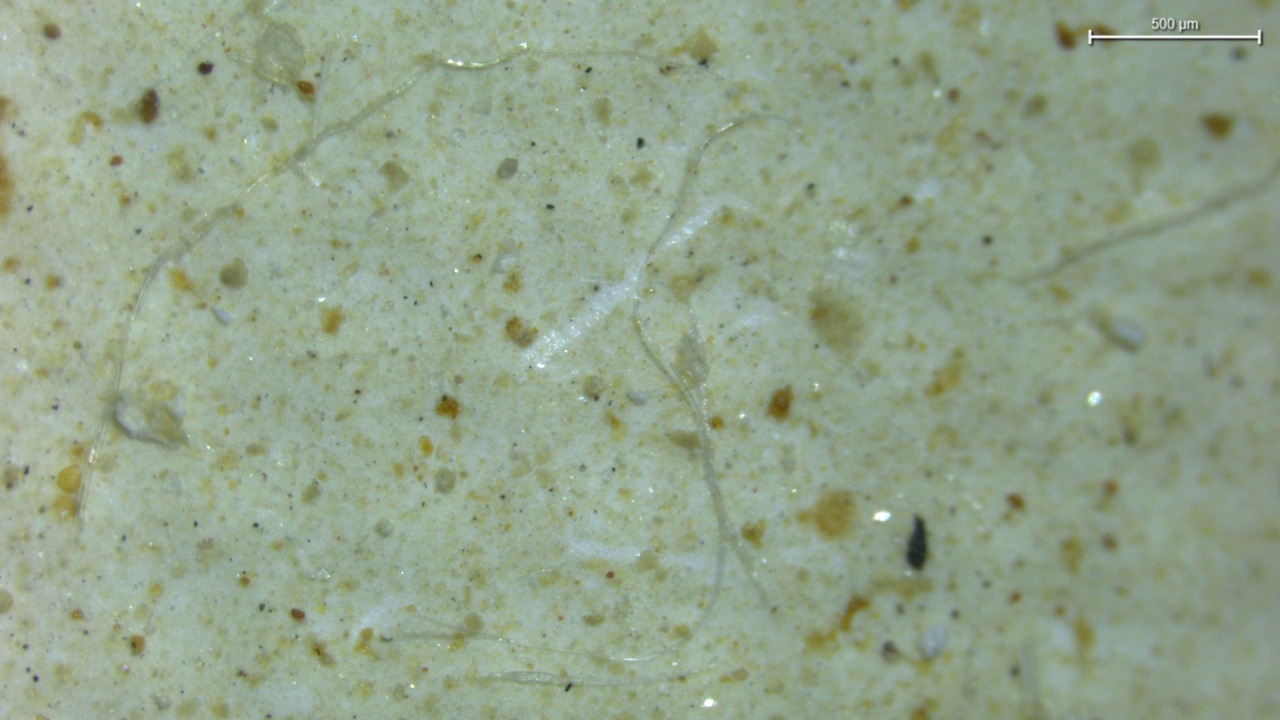microplastic_fragment: (252, 22, 315, 103), (114, 382, 187, 446), (0, 592, 12, 612)
